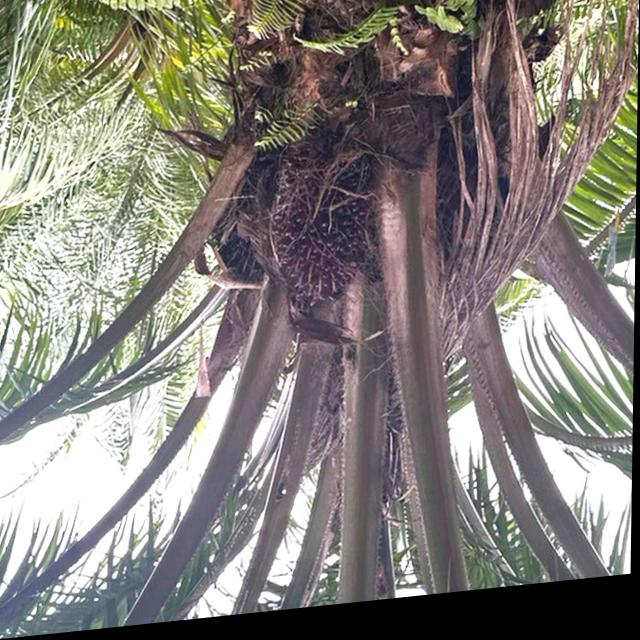ripe: (254, 135, 396, 327)
